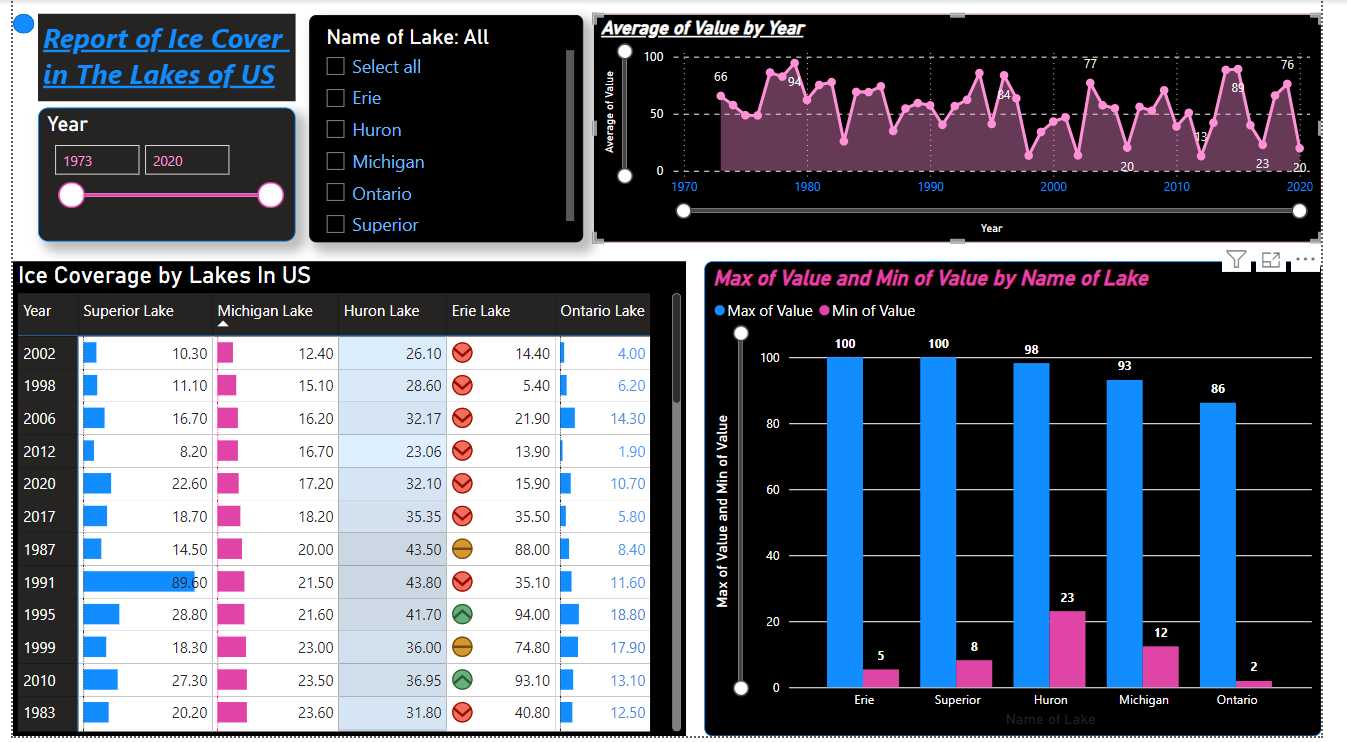

What the dashboard file says about the page in this screenshot:
{"tool":"powerbi","page":{"name":" Lakes Page","canvas":[1280,720],"ordinal":0},"visuals":[{"type":"pivotTable","title":"Ice Coverage by Lakes In US","fields":{"Rows":["US Lakes.Year"],"Values":["Sum(US Lakes.Superior)","Sum(US Lakes.Michigan)","Sum(US Lakes.Huron)","Sum(US Lakes.Erie)","Sum(US Lakes.Ontario)"]},"box":[0,255,658.8,465],"z":0},{"type":"clusteredColumnChart","fields":{"Category":["Unpivoted  Col Of Us Lakes.Attribute"],"Y":["Max(Unpivoted  Col Of Us Lakes.Value)","Min(Unpivoted  Col Of Us Lakes.Value)1"]},"box":[676.2,255,603.8,465],"z":1000},{"type":"slicer","fields":{"Values":["Unpivoted  Col Of Us Lakes.Attribute"]},"box":[289.8,14.7,267.8,222.6],"z":2000},{"type":"lineChart","fields":{"Category":["Unpivoted  Col Of Us Lakes.Year"],"Y":["Avg(Unpivoted  Col Of Us Lakes.Value)"]},"box":[567.5,13.8,712.5,223.8],"z":3000},{"type":"slicer","title":"Year","fields":{"Values":["Unpivoted  Col Of Us Lakes.Year"]},"box":[24.5,105.2,251.9,130.8],"z":4000},{"type":"textbox","box":[24.5,13.5,251.9,85.6],"z":5000},{"type":"shape","box":[0,13.5,20.8,19.6],"z":6000}]}

Visuals, with their boxes in screenshot pixels (x1, y1, x2, y2), scaled from the page's 1280x720 canvas onto the 1347x742 screenshot:
"Ice Coverage by Lakes In US" pivotTable: BBox(0, 263, 693, 741)
clusteredColumnChart - Unpivoted  Col Of Us Lakes.Attribute x Max(Unpivoted  Col Of Us Lakes.Value): BBox(712, 263, 1346, 741)
slicer - Unpivoted  Col Of Us Lakes.Attribute: BBox(305, 15, 587, 245)
lineChart - Unpivoted  Col Of Us Lakes.Year x Avg(Unpivoted  Col Of Us Lakes.Value): BBox(597, 14, 1346, 245)
"Year" slicer: BBox(26, 108, 291, 243)
textbox: BBox(26, 14, 291, 102)
shape: BBox(0, 14, 22, 34)
